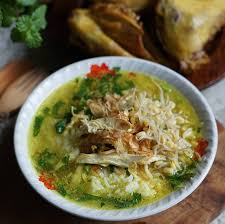soto: (18, 50, 219, 224)
